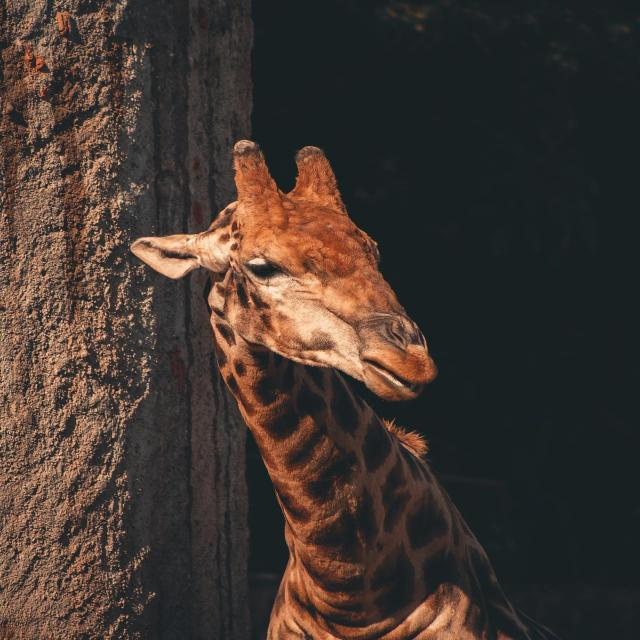Giraffe: (126, 140, 532, 640)
